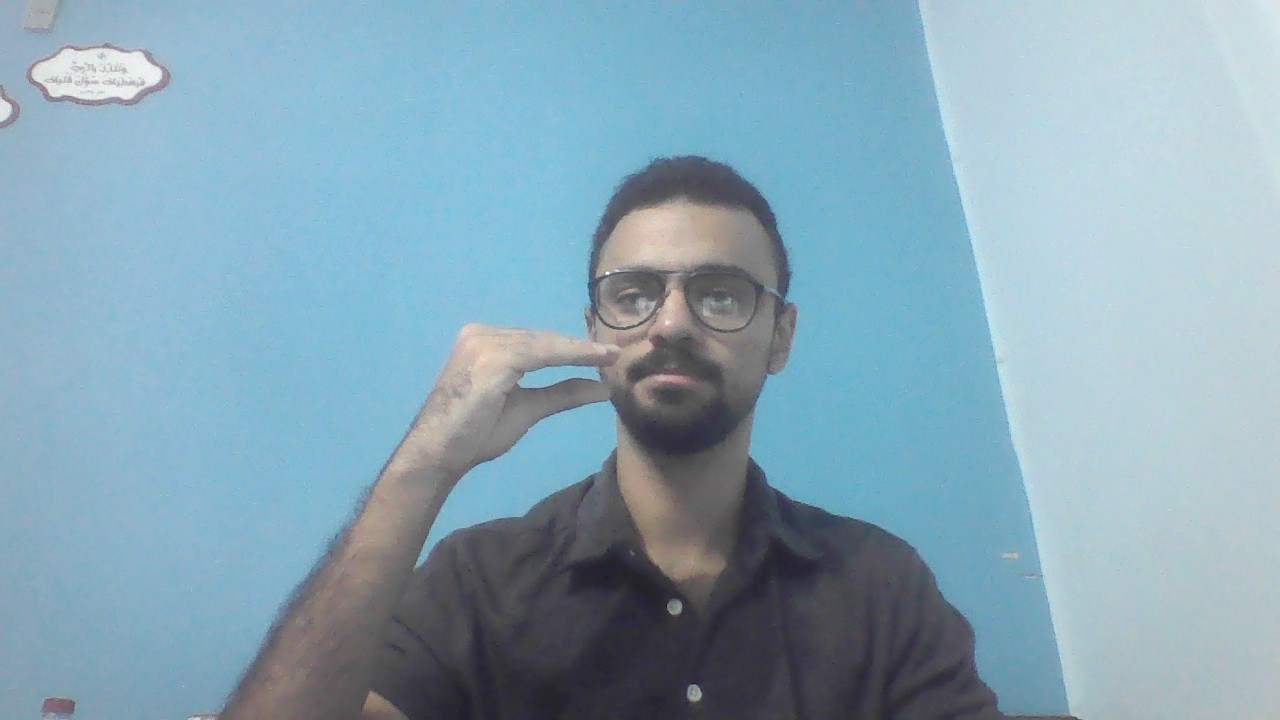eat: (396, 324, 621, 462)
